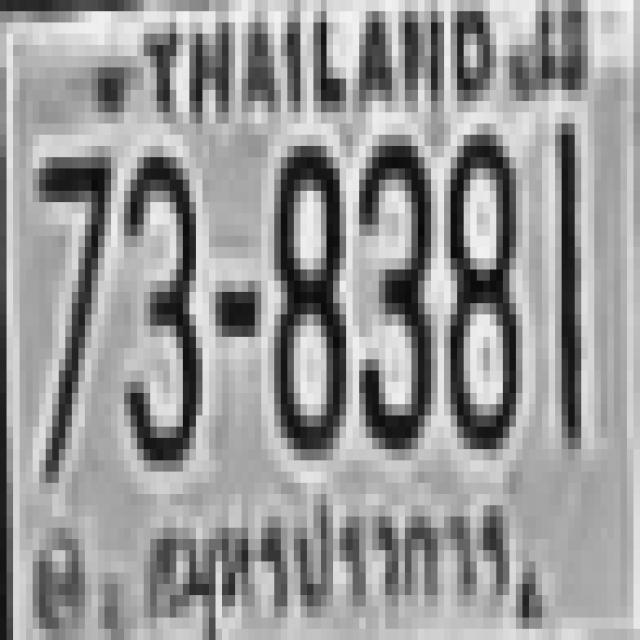1: (552, 118, 578, 443)
3: (117, 146, 196, 460), (356, 129, 428, 444)
7: (33, 146, 111, 472)
8: (444, 129, 516, 444), (268, 135, 340, 449)
SamutPrakan: (153, 478, 519, 622)
